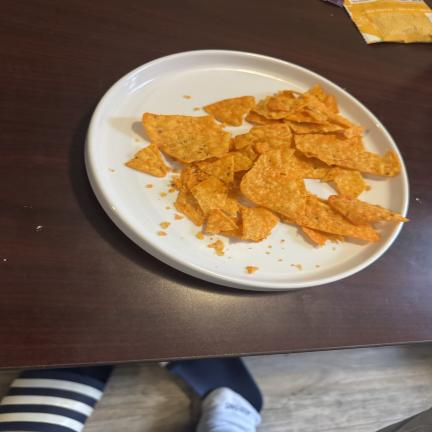chips: (130, 79, 408, 253)
